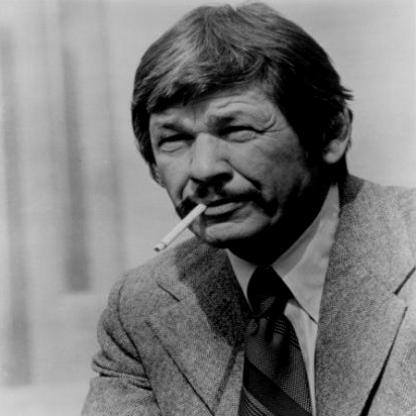cigarette: (152, 202, 210, 252)
person: (116, 3, 415, 415)
